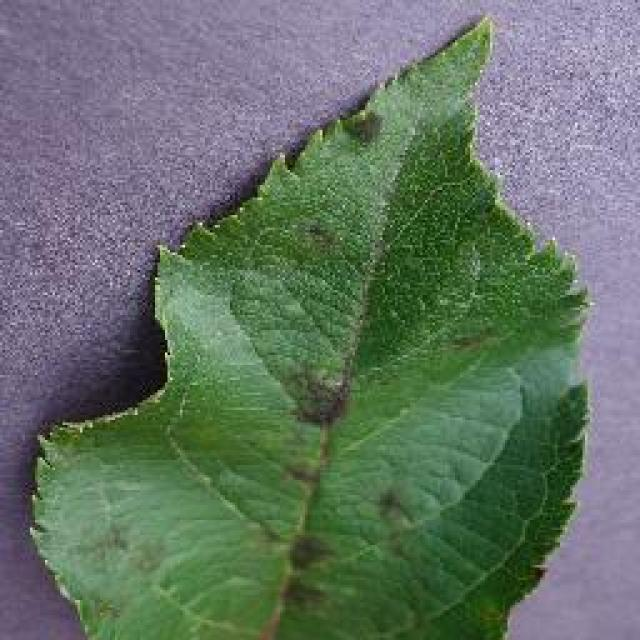Apple___Apple_scab: (23, 10, 598, 638)
